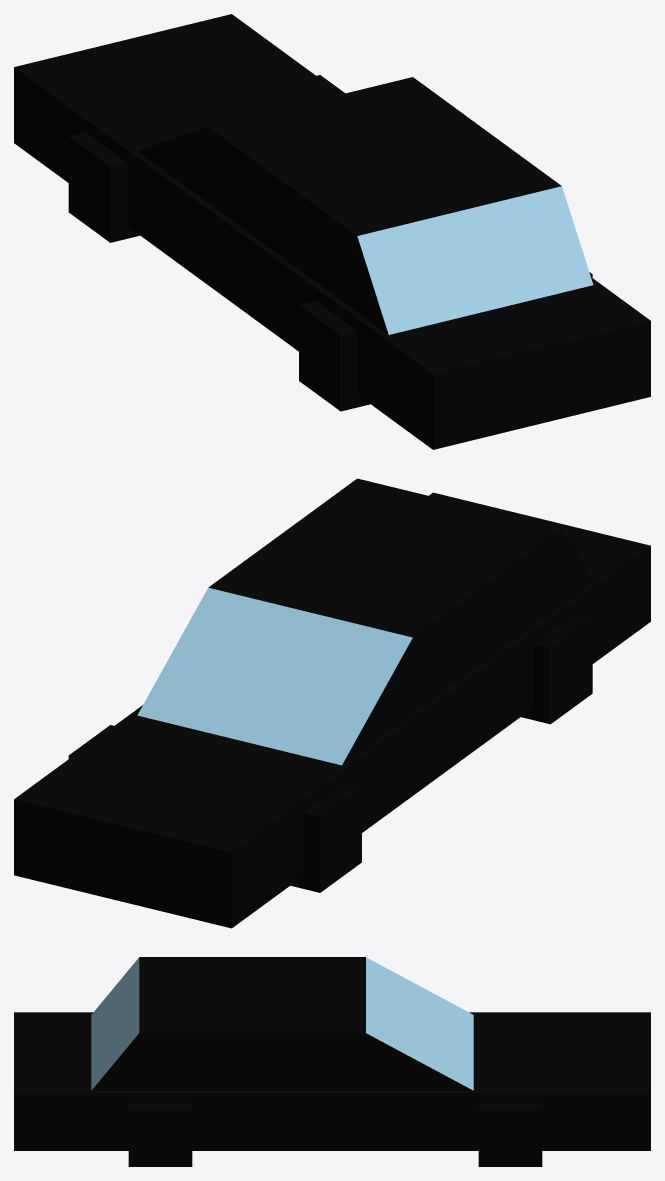
The model's file is limousine.fbx.
3 views of the same model, one above another, from view 1: azimuth 30°, elevation 25°; view 2: azimuth 150°, elevation 25°; view 3: azimuth 270°, elevation 25° (orthographic). The views are drawn at different scales.
Parts seen in each view (by area): view 1: Cube.018; view 2: Cube.018; view 3: Cube.018.
Part boxes in pixels (x1,y1,x2,y2): Cube.018: (14, 14, 650, 449); Cube.018: (14, 478, 650, 928); Cube.018: (14, 957, 650, 1166).
Size of the model in its own units: 1.73 by 1.08 by 5.
